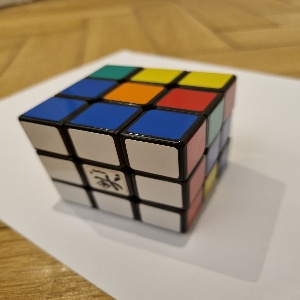cube: (18, 65, 237, 235)
